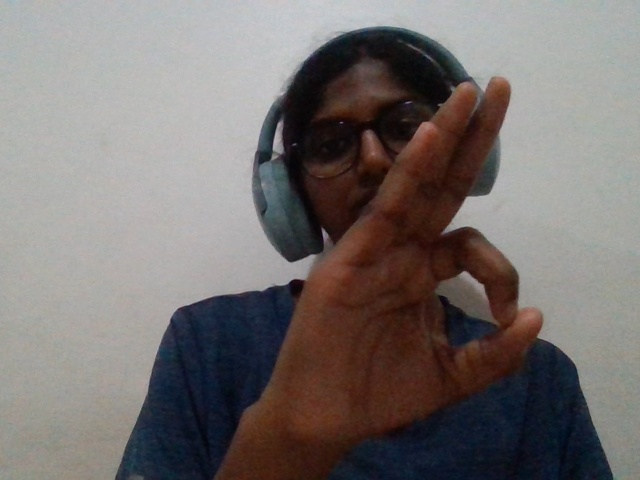F: (239, 65, 562, 480)
